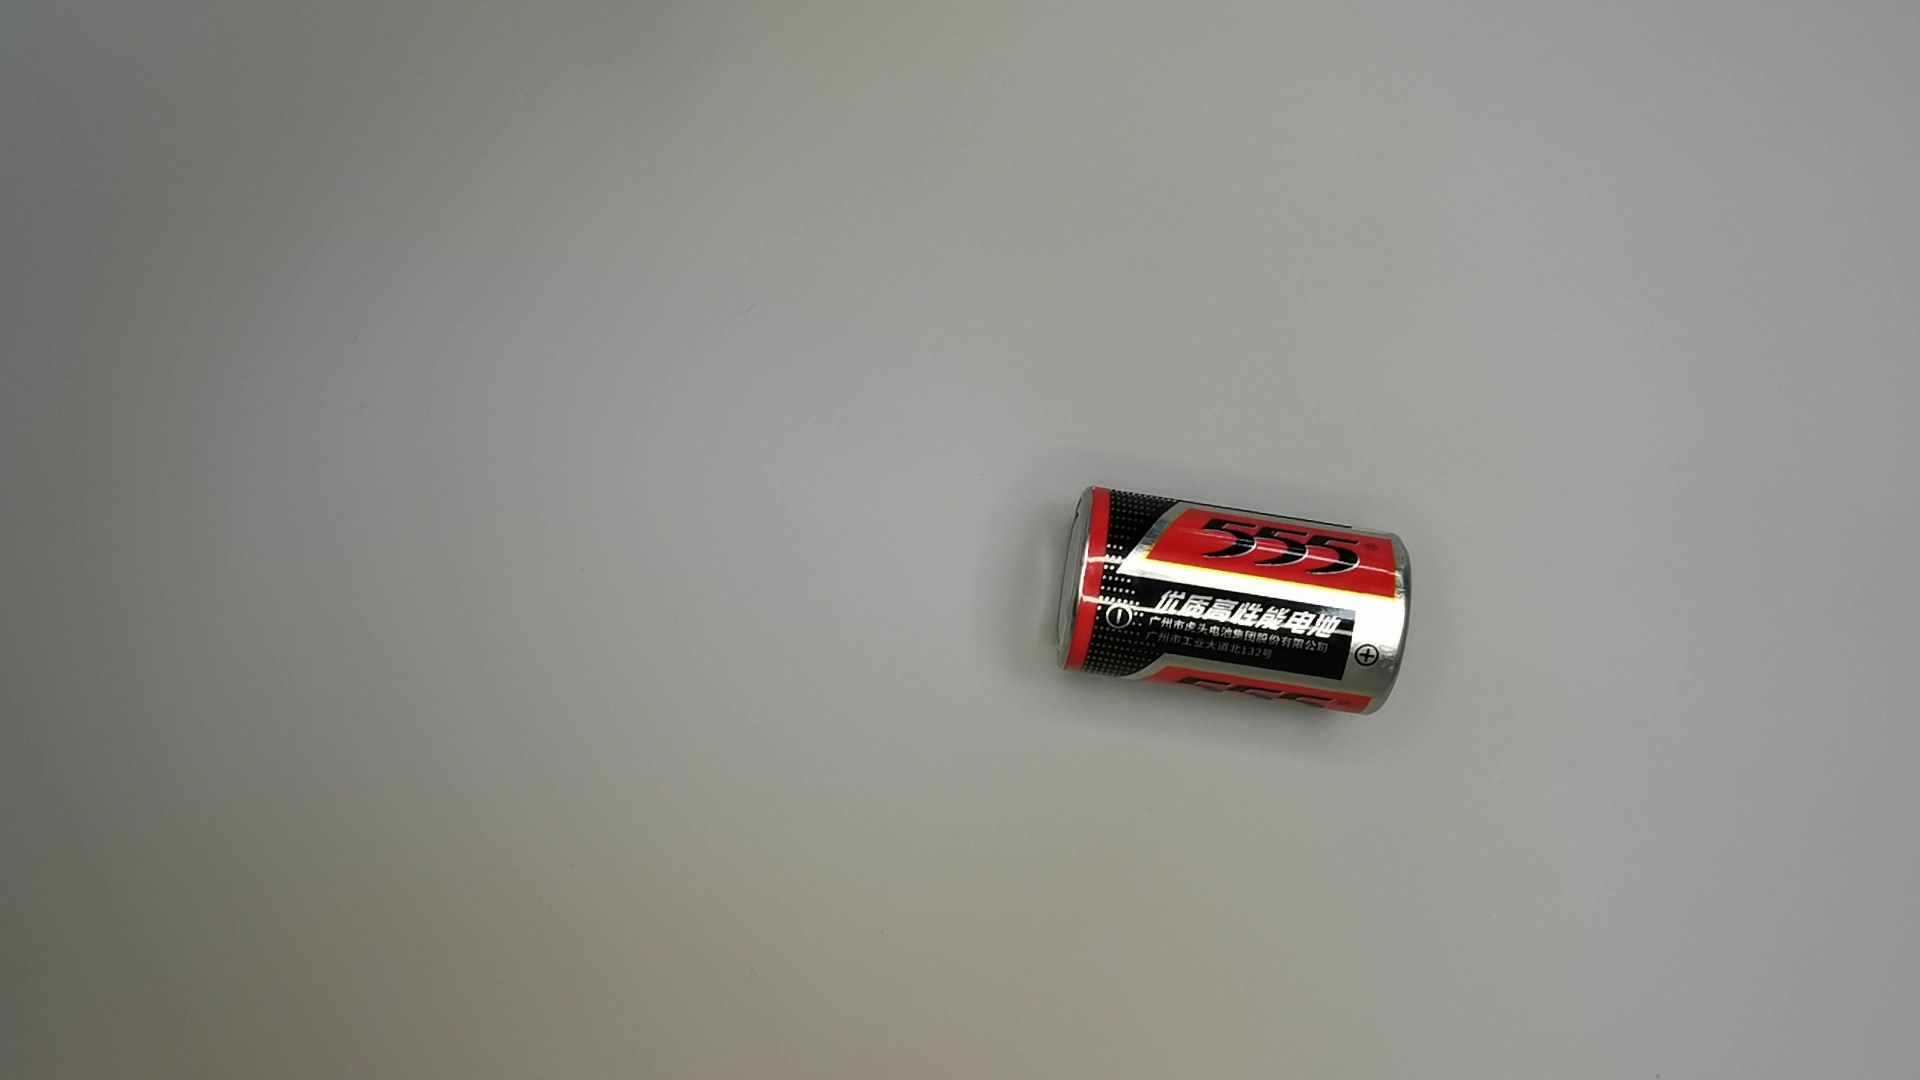battery: (1048, 483, 1419, 735)
